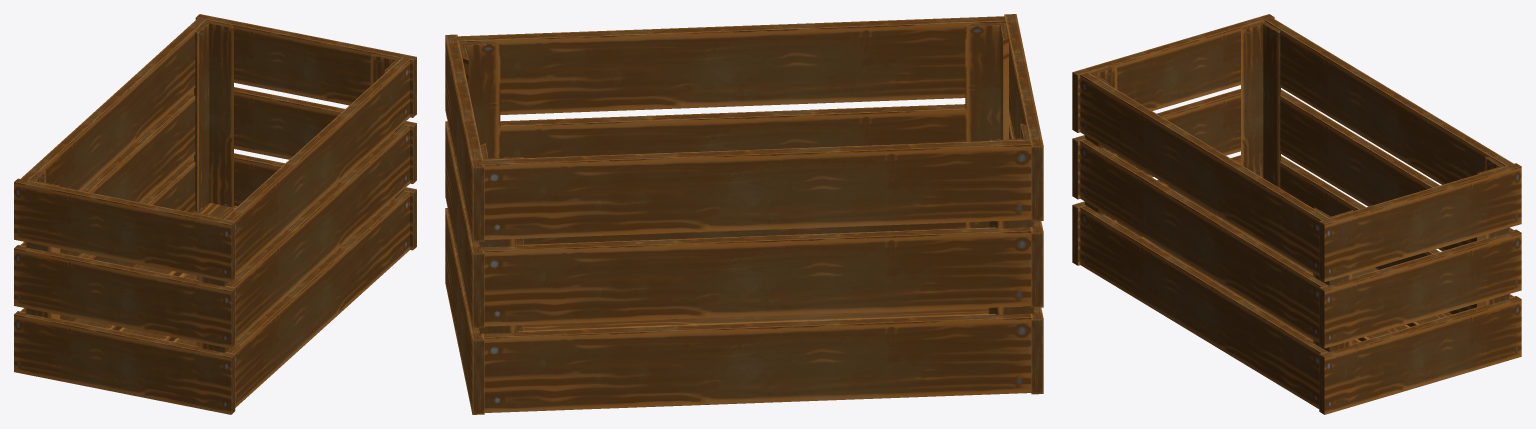
3 views of the same model, side by side, from view 1: azimuth 30°, elevation 25°; view 2: azimuth 150°, elevation 25°; view 3: azimuth 270°, elevation 25° (orthographic). The views are drawn at different scales.
Visible parts, largest first — view 1: Cube.1389; view 2: Cube.1389; view 3: Cube.1389.
Boxes of the visible parts, box(x1,y1,x2,y2) form: Cube.1389: box(14, 14, 416, 414); Cube.1389: box(445, 14, 1043, 414); Cube.1389: box(1072, 14, 1521, 414).
Size of the model in its own units: 203 by 85.41 by 183.
1 material, 1 textured.
